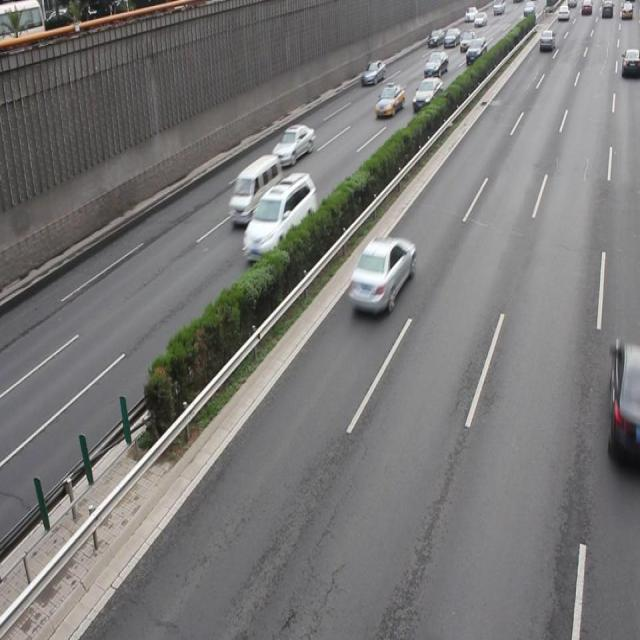car: (346, 232, 414, 314), (606, 338, 640, 463), (270, 123, 314, 165), (374, 82, 404, 117)
truck: (242, 171, 316, 262), (228, 153, 282, 227)
